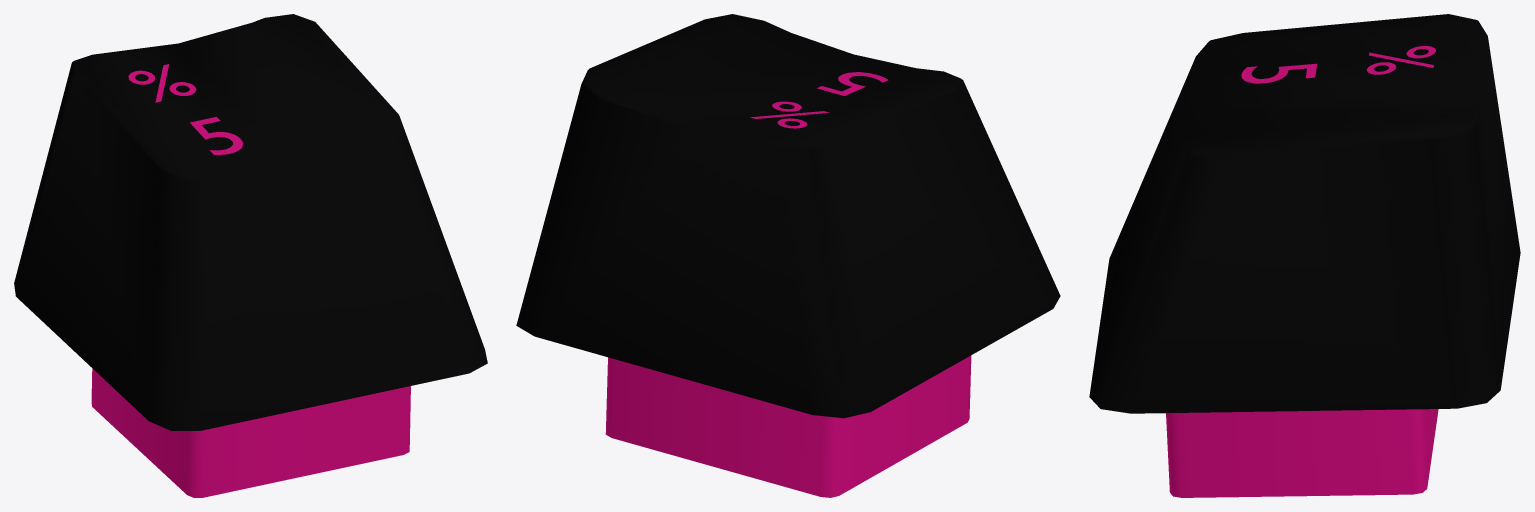
The model's file is key_5_1-C6fgr23Y.glb.
3 views of the same model, side by side, from view 1: azimuth 30°, elevation 25°; view 2: azimuth 150°, elevation 25°; view 3: azimuth 270°, elevation 25° (orthographic). The views are drawn at different scales.
Visible parts, largest first — view 1: StudyShelf_322; view 2: StudyShelf_322; view 3: StudyShelf_322.
Part boxes in pixels (x1,y1,x2,y2): StudyShelf_322: (14, 14, 487, 497); StudyShelf_322: (516, 14, 1060, 497); StudyShelf_322: (1089, 14, 1520, 497).
Size of the model in its own units: 4.35 by 4.14 by 4.35.
